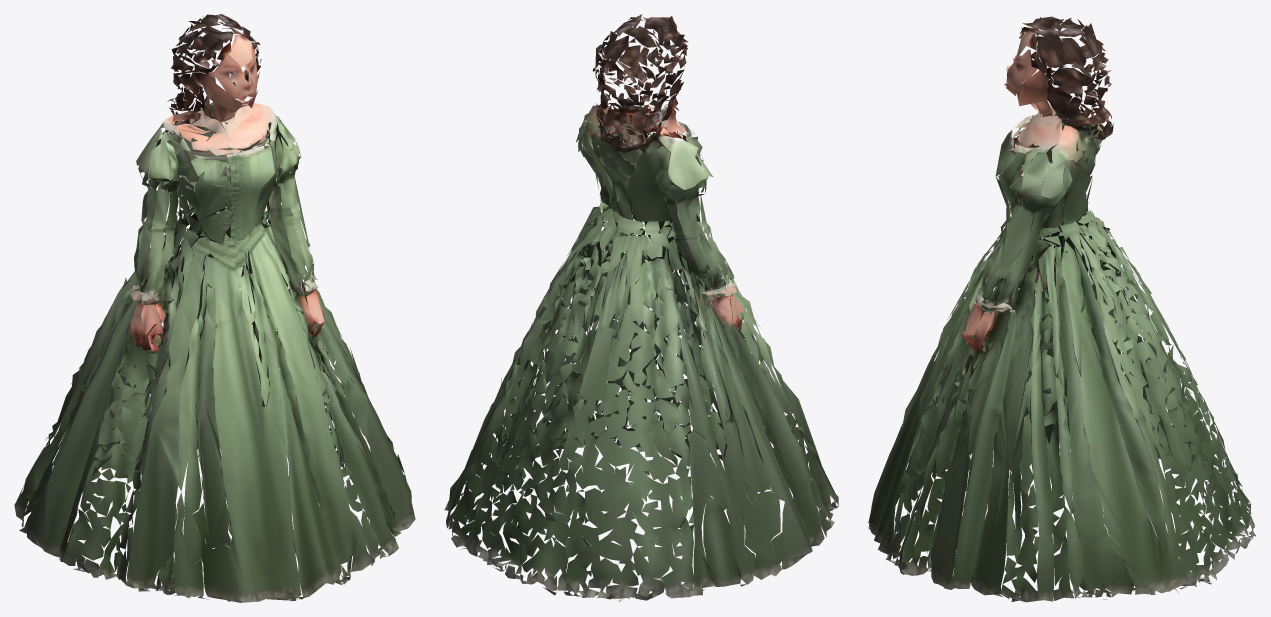
Rendered from char_actor_f.glb.
The picture shows the model from 3 angles, left to right: view 1: azimuth 30°, elevation 25°; view 2: azimuth 150°, elevation 25°; view 3: azimuth 270°, elevation 25°; orthographic projection.
Parts seen in each view (by area): view 1: geometry_0; view 2: geometry_0; view 3: geometry_0.
Boxes of the visible parts, bbox=[...] form: geometry_0: bbox=[14, 14, 415, 602]; geometry_0: bbox=[444, 14, 838, 601]; geometry_0: bbox=[868, 16, 1256, 602].
Size of the model in its own units: 1.17 by 1.71 by 1.16.
1 material, 1 textured.
